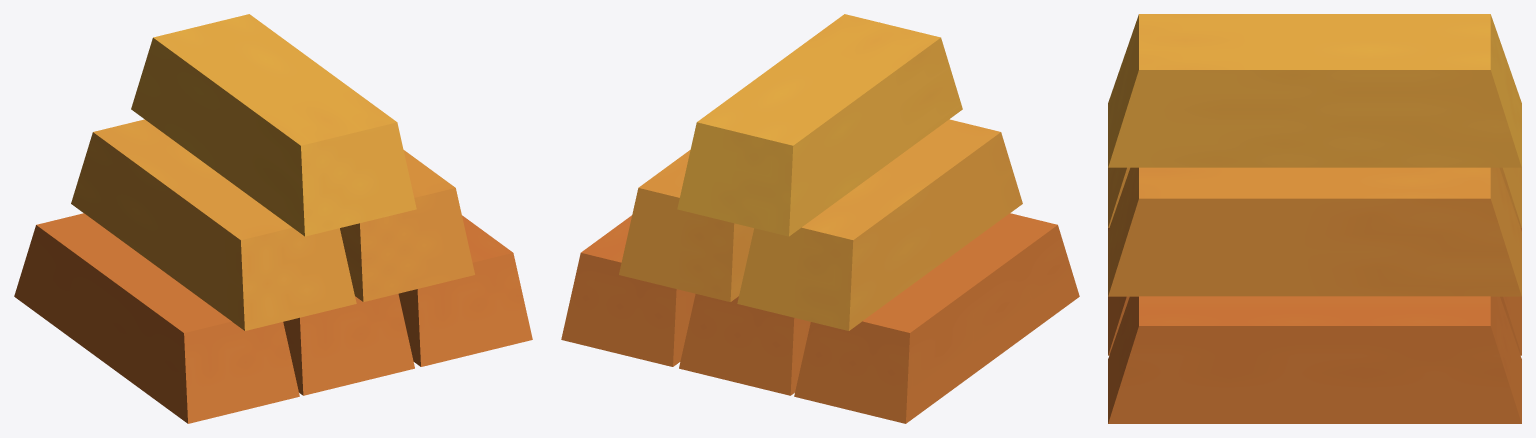
File: gold_ingot_stack.glb
3 views of the same model, side by side, from view 1: azimuth 30°, elevation 25°; view 2: azimuth 150°, elevation 25°; view 3: azimuth 270°, elevation 25° (orthographic). The views are drawn at different scales.
Parts seen in each view (by area): view 1: GoldBar; view 2: GoldBar; view 3: GoldBar.
Part boxes in pixels (left/top/right/bottom): GoldBar: left=14, top=14, right=532, bottom=423; GoldBar: left=561, top=14, right=1079, bottom=423; GoldBar: left=1108, top=14, right=1521, bottom=423.
Bounding box in the file's own units: 0.5279 × 0.3483 × 0.4614.
Materials: 1 (1 with a texture image).
